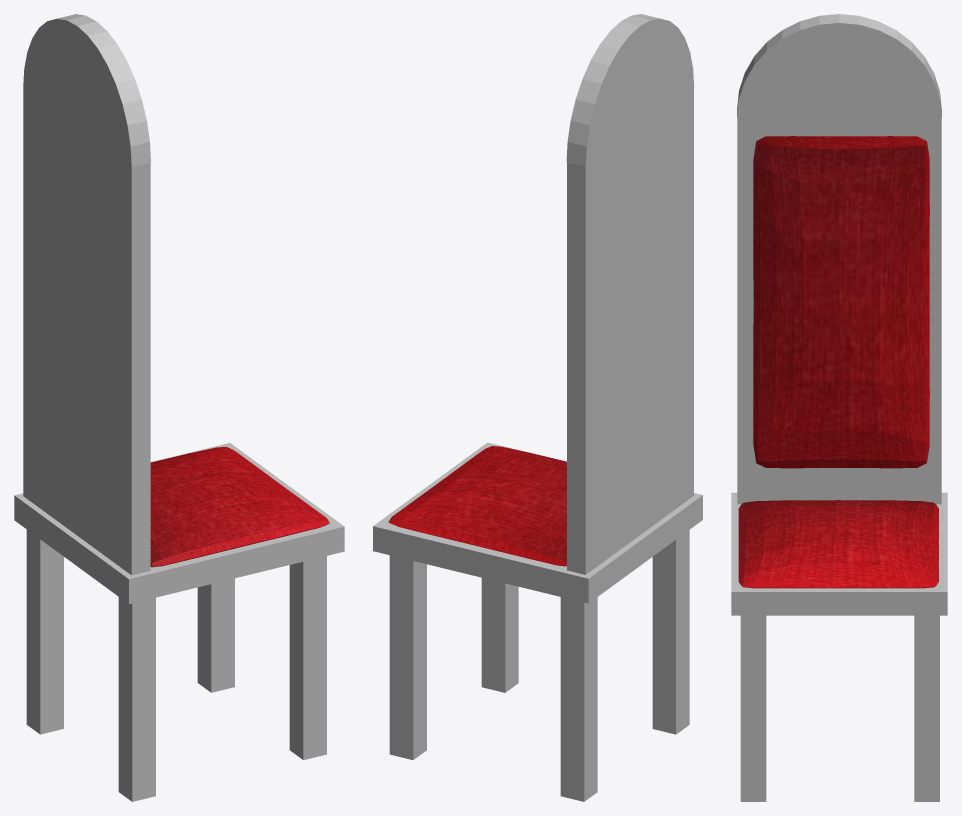
Rendered from Chair.fbx.
The picture shows the model from 3 angles, left to right: view 1: azimuth 30°, elevation 25°; view 2: azimuth 150°, elevation 25°; view 3: azimuth 270°, elevation 25°; orthographic projection. The views are drawn at different scales.
Visible parts, largest first — view 1: Chair, Cushions; view 2: Chair, Cushions; view 3: Cushions, Chair.
Part boxes in pixels (x1=…): Chair: x1=14, y1=14, x2=344, y2=801; Cushions: x1=150, y1=447, x2=329, y2=567; Chair: x1=373, y1=14, x2=702, y2=801; Cushions: x1=388, y1=446, x2=566, y2=566; Cushions: x1=738, y1=136, x2=939, y2=588; Chair: x1=731, y1=14, x2=947, y2=801.
Size of the model in its own units: 336 by 1099 by 309.
